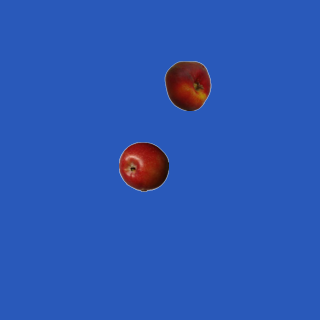Apple Braeburn: (118, 141, 168, 191)
Nectarine Flat: (162, 60, 212, 110)
